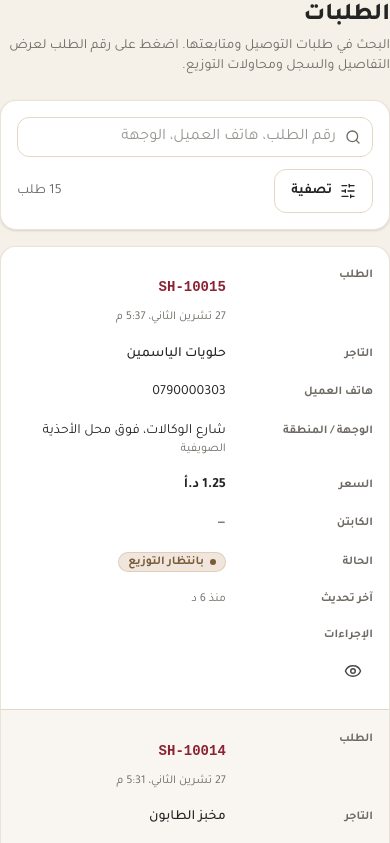
Scenario: orders page: phone filter sheet shares the applied state › applying shows the badge, chips and the same value in the inline select
The image size is (390, 843).
Later steps or results of the test are not shown.
Click the button "تصفية" at (324, 191), box [274,169,373,213]
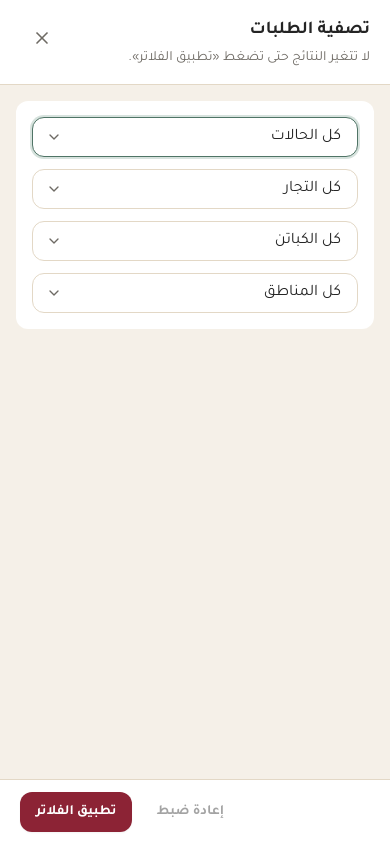
Select "تم التسليم" in the dropdown named "الحالة" at (195, 137), box [32,117,358,157]
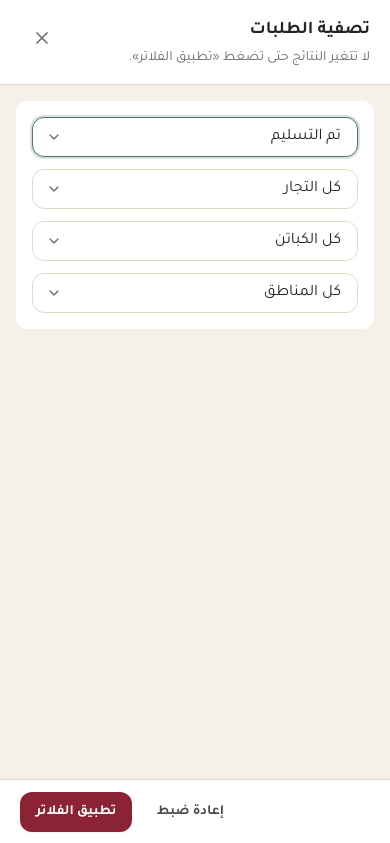
Click the button "تطبيق الفلاتر" at (76, 812), box [20,792,132,832]
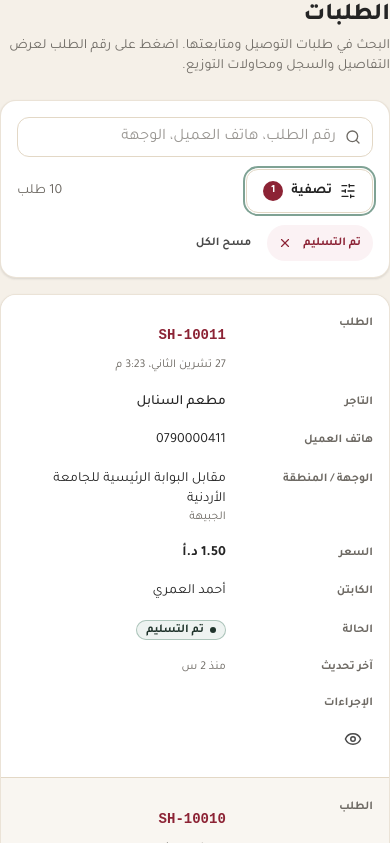
Expected: the dialog is gone
Expected: the button with aria-label "تصفية، 1 فلاتر مطبّقة" is shown, [246,169,373,213]
Expected: the list named "الفلاتر المطبّقة" shows "تم التسليم", [303,237,361,249]
